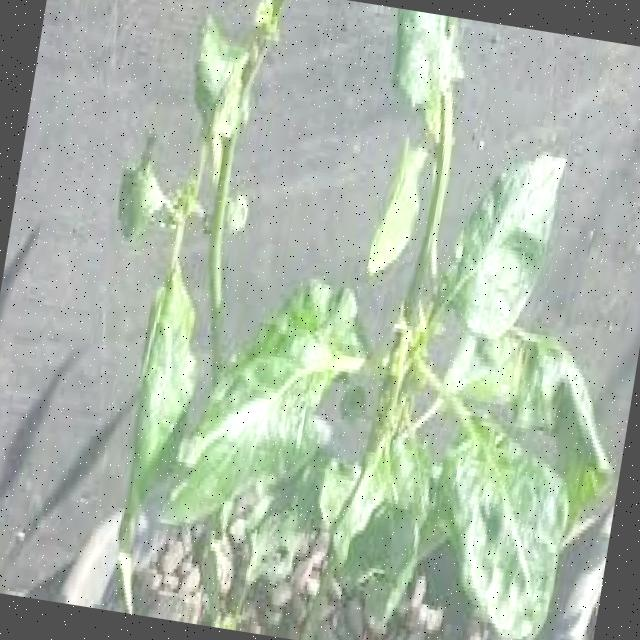leaf curl: (310, 9, 636, 640), (72, 0, 387, 571)
